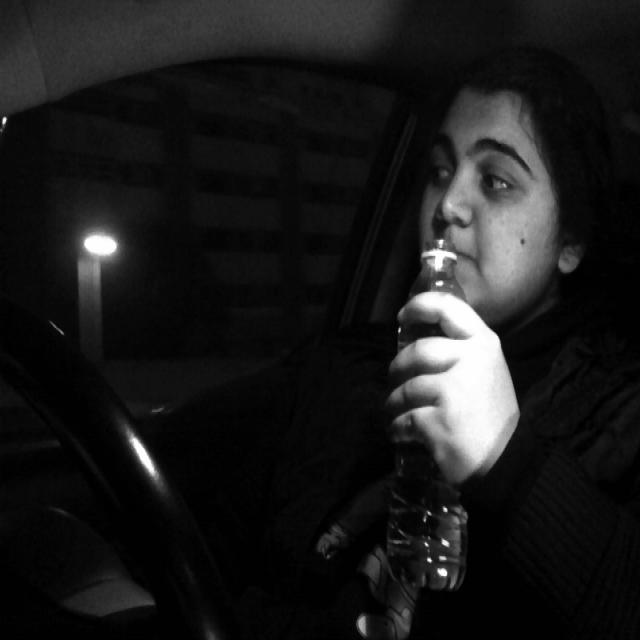drinking: (361, 242, 502, 594)
